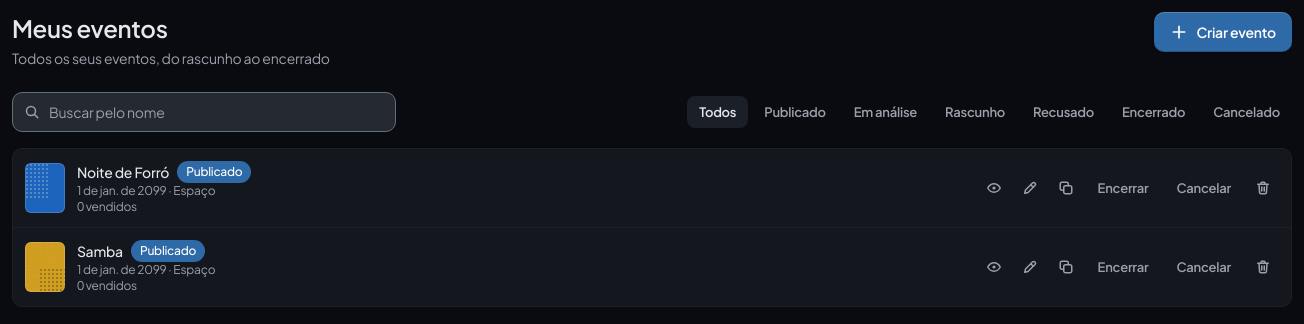
Test: Todos os eventos (tela 02) › busca sem acento: "forro" acha "Forró"
Type "forro" into the search field named "Buscar eventos" at (204, 112), box [12,92,396,132]
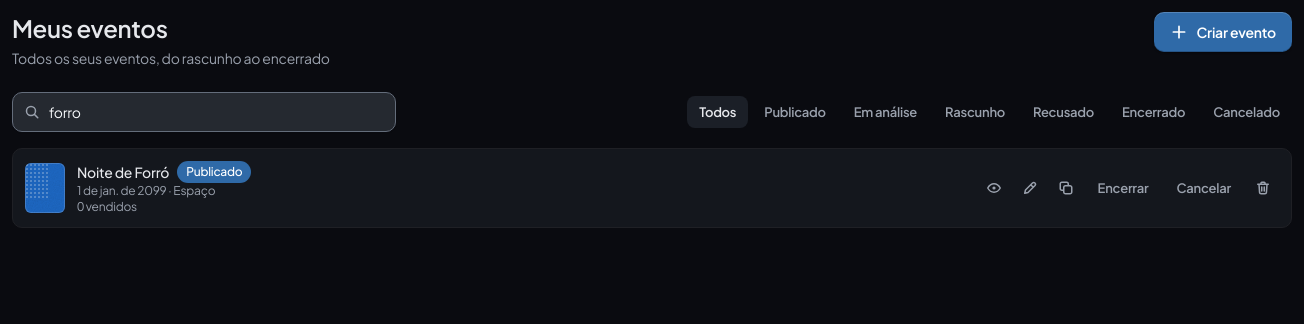
Expected: the link "Noite de Forró" is shown, [77,162,169,182]
Expected: the link "Samba" is gone
